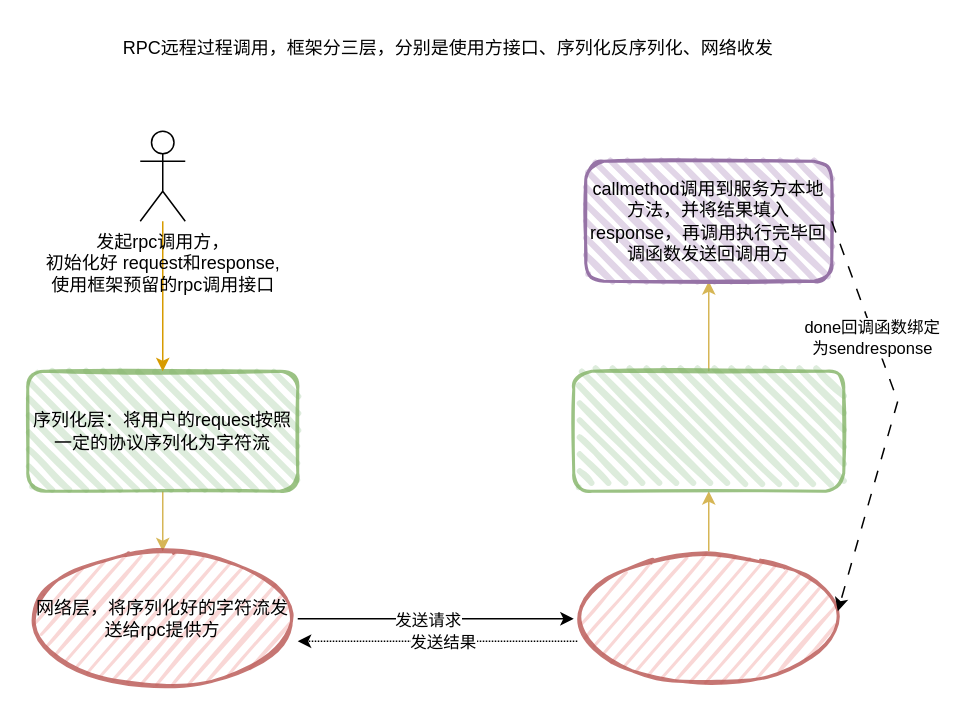
Some shapes in this 965 by 713 pixel diagram are drawn without their labels. The shapes that lost their labels are listed below. From the top down, each one's centre as x and y in pixels, then its label:
[708,430]: 反序列化层：将字符流按照协议组装为request，取出对应的方法，调用callmethod
[708,618]: 网络层，接收调用方发送过来的序列化字符流
